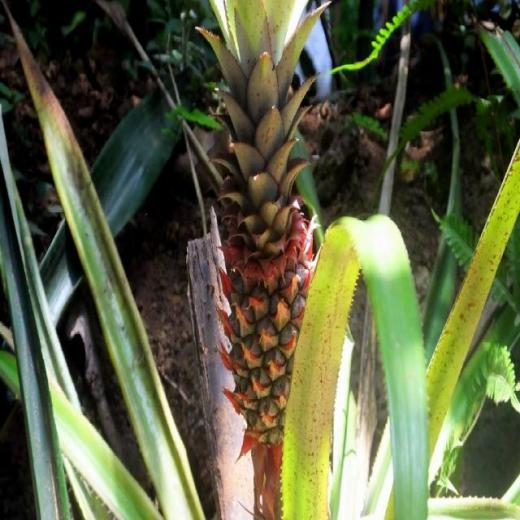Mango: (194, 0, 332, 463)
